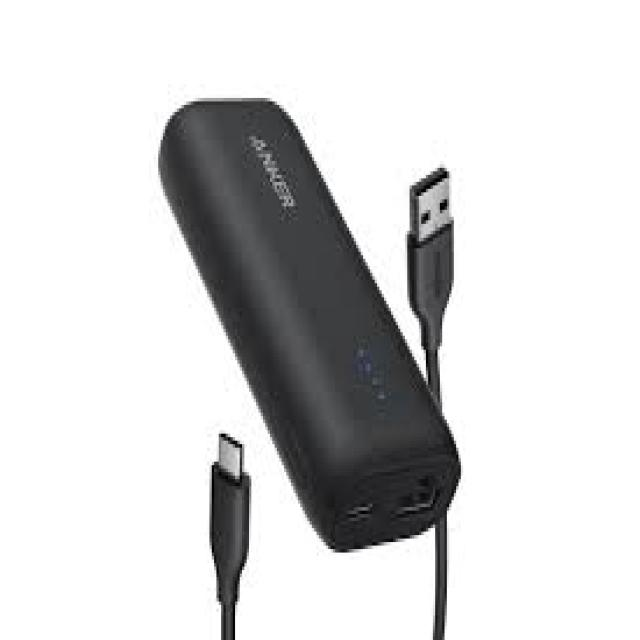portable-charger: (151, 84, 463, 556)
